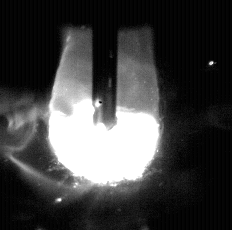arame: (92, 0, 119, 131)
poca: (48, 0, 160, 230)
